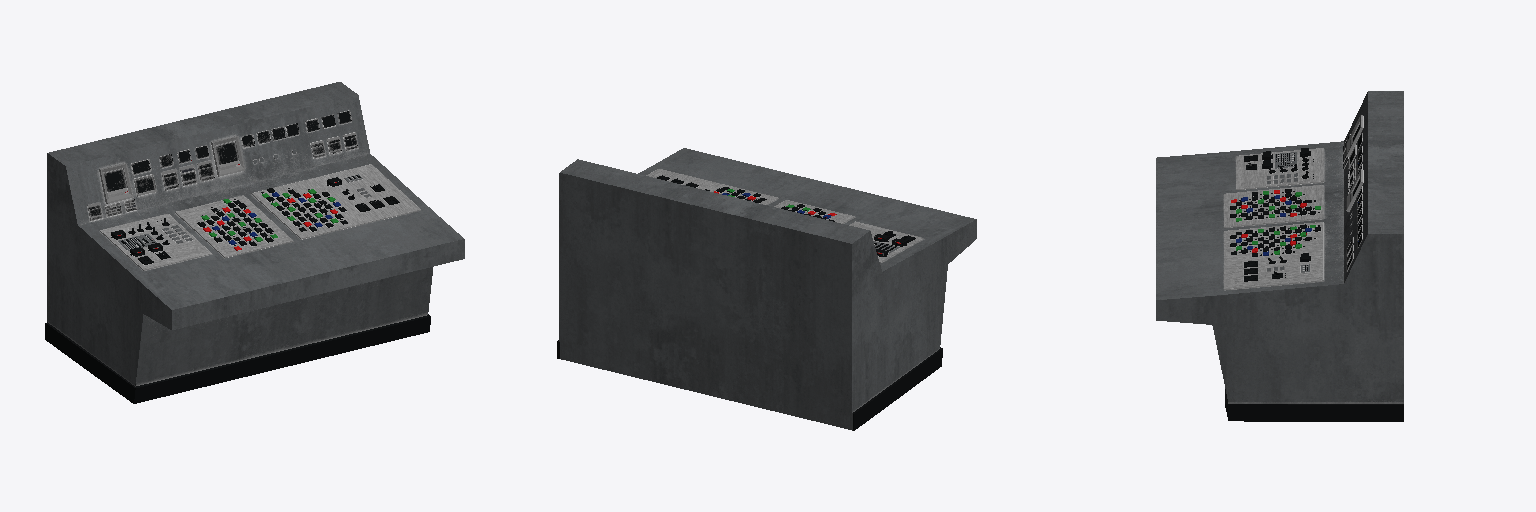
The picture shows the model from 3 angles: view 1: azimuth 30°, elevation 25°; view 2: azimuth 150°, elevation 25°; view 3: azimuth 270°, elevation 25°; orthographic projection.
Parts seen in each view (by area): view 1: cube; view 2: cube; view 3: cube.
Boxes of the visible parts, x1,y1,x2,y2 form: cube: [45, 82, 464, 403]; cube: [557, 148, 976, 430]; cube: [1156, 91, 1403, 421].
Bounding box in the file's own units: 1.91 × 1.14 × 1.38.
Materials: 1 (1 with a texture image).